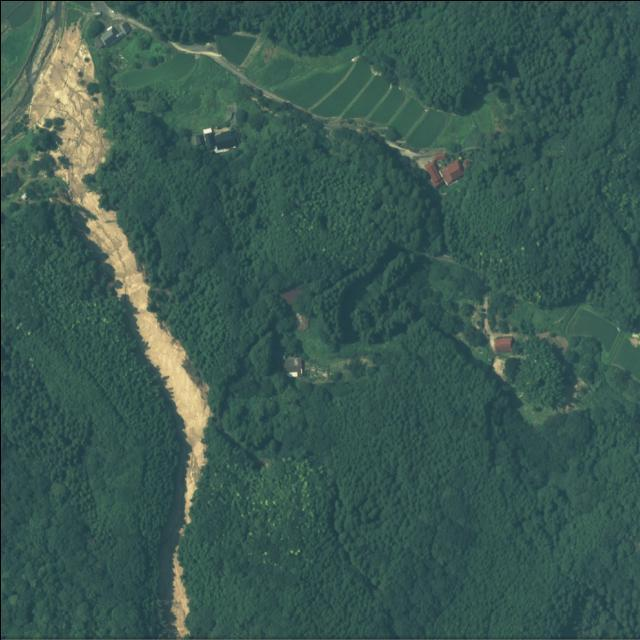landslide: (25, 28, 208, 526), (170, 552, 186, 637)
